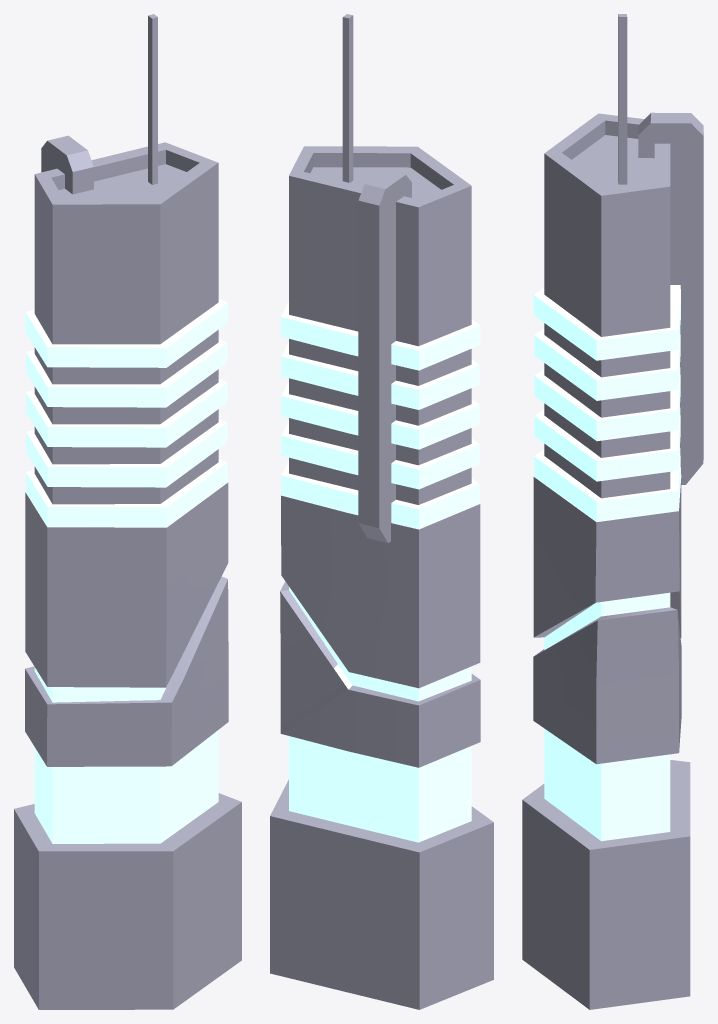
File: mrakodrap2.fbx
The picture shows the model from 3 angles, left to right: view 1: azimuth 30°, elevation 25°; view 2: azimuth 150°, elevation 25°; view 3: azimuth 270°, elevation 25°; orthographic projection.
Parts seen in each view (by area): view 1: Circle.004; view 2: Circle.004; view 3: Circle.004.
Boxes of the visible parts, x1,y1,x2,y2 form: Circle.004: (14,14,241,1009); Circle.004: (270,14,493,1009); Circle.004: (522,14,703,1009).
Bounding box in the file's own units: 219 × 977 × 167.
